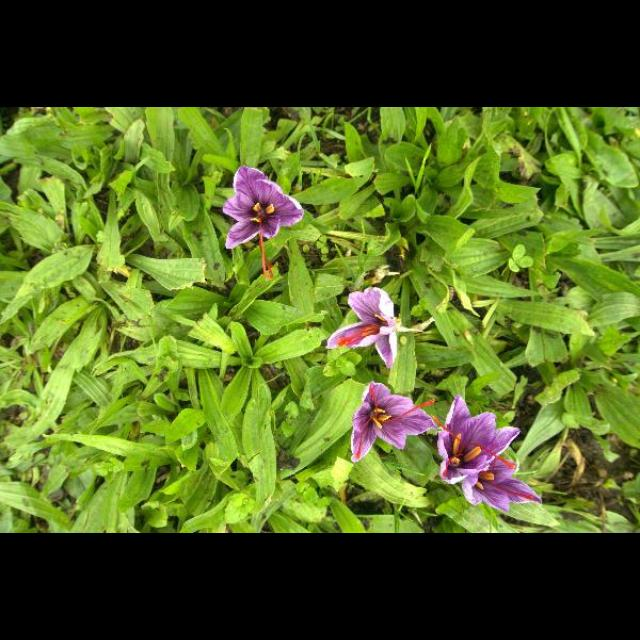flower: (225, 168, 303, 280), (351, 382, 435, 462), (324, 287, 398, 369)
overlap: (433, 396, 543, 512)
